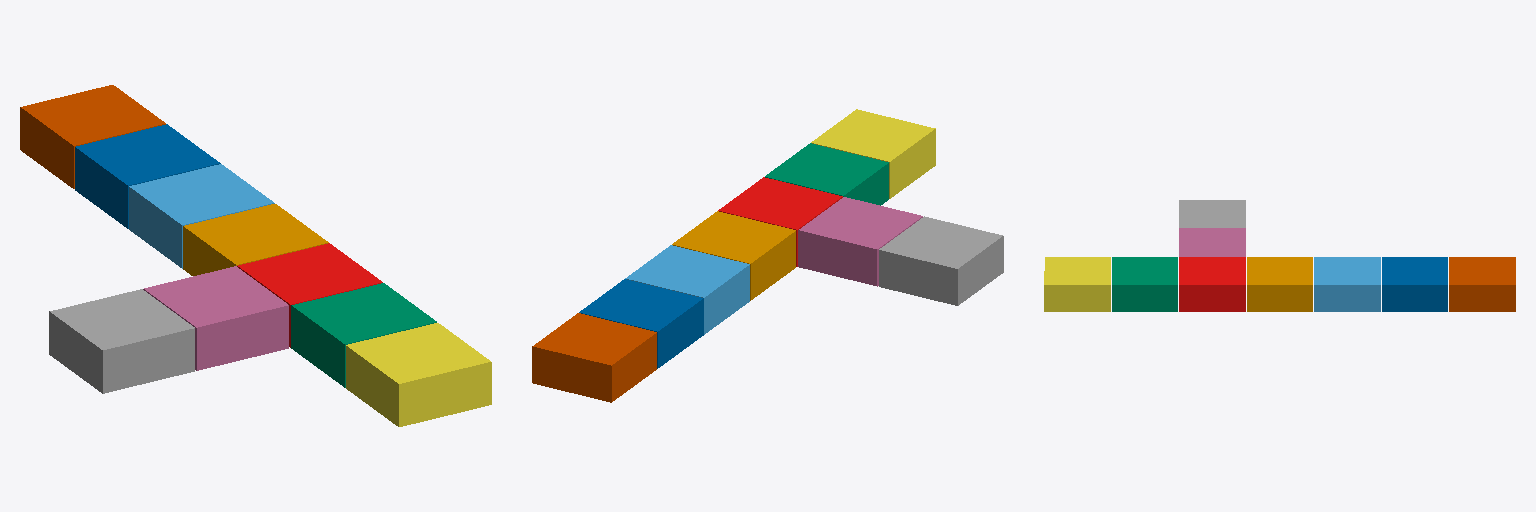
robot.urdf — rob:
<?xml version='1.0' encoding='UTF-8'?>
<robot name="rob">
  <link name="set1_arm1">
    <inertial>
      <origin xyz="0.0 0.34 0.0" rpy="0.0 0.0 0.0"/>
      <mass value="1.0"/>
      <inertia ixx="0.0" ixy="0.0" ixz="0.0" iyy="0.0" iyz="0.0" izz="0.0"/>
    </inertial>
    <visual>
      <geometry>
        <box size="0.67 0.67 0.3 "/>
      </geometry>
      <origin xyz="0.0 0.34 0.0" rpy="0.0 0.0 0.0"/>
    </visual>
    <collision>
      <geometry>
        <box size="0.67 0.67 0.3 "/>
      </geometry>
      <origin xyz="0.0 0.34 0.0" rpy="0.0 0.0 0.0"/>
    </collision>
  </link>
  <link name="set1_arm2">
    <inertial>
      <origin xyz="0.0 0.34 0.0" rpy="0.0 0.0 0.0"/>
      <mass value="1.0"/>
      <inertia ixx="0.0" ixy="0.0" ixz="0.0" iyy="0.0" iyz="0.0" izz="0.0"/>
    </inertial>
    <visual>
      <geometry>
        <box size="0.67 0.67 0.3 "/>
      </geometry>
      <origin xyz="0.0 0.34 0.0" rpy="0.0 0.0 0.0"/>
    </visual>
    <collision>
      <geometry>
        <box size="0.67 0.67 0.3 "/>
      </geometry>
      <origin xyz="0.0 0.34 0.0" rpy="0.0 0.0 0.0"/>
    </collision>
  </link>
  <link name="set2_arm1">
    <inertial>
      <origin xyz="0.0 0.34 0.0" rpy="0.0 0.0 0.0"/>
      <mass value="1.0"/>
      <inertia ixx="0.0" ixy="0.0" ixz="0.0" iyy="0.0" iyz="0.0" izz="0.0"/>
    </inertial>
    <visual>
      <geometry>
        <box size="0.67 0.67 0.3 "/>
      </geometry>
      <origin xyz="0.0 0.34 0.0" rpy="0.0 0.0 0.0"/>
    </visual>
    <collision>
      <geometry>
        <box size="0.67 0.67 0.3 "/>
      </geometry>
      <origin xyz="0.0 0.34 0.0" rpy="0.0 0.0 0.0"/>
    </collision>
  </link>
  <link name="set2_arm2">
    <inertial>
      <origin xyz="0.0 0.34 0.0" rpy="0.0 0.0 0.0"/>
      <mass value="1.0"/>
      <inertia ixx="0.0" ixy="0.0" ixz="0.0" iyy="0.0" iyz="0.0" izz="0.0"/>
    </inertial>
    <visual>
      <geometry>
        <box size="0.67 0.67 0.3 "/>
      </geometry>
      <origin xyz="0.0 0.34 0.0" rpy="0.0 0.0 0.0"/>
    </visual>
    <collision>
      <geometry>
        <box size="0.67 0.67 0.3 "/>
      </geometry>
      <origin xyz="0.0 0.34 0.0" rpy="0.0 0.0 0.0"/>
    </collision>
  </link>
  <link name="set3_arm1">
    <inertial>
      <origin xyz="0.0 0.34 0.0" rpy="0.0 0.0 0.0"/>
      <mass value="1.0"/>
      <inertia ixx="0.0" ixy="0.0" ixz="0.0" iyy="0.0" iyz="0.0" izz="0.0"/>
    </inertial>
    <visual>
      <geometry>
        <box size="0.67 0.67 0.3 "/>
      </geometry>
      <origin xyz="0.0 0.34 0.0" rpy="0.0 0.0 0.0"/>
    </visual>
    <collision>
      <geometry>
        <box size="0.67 0.67 0.3 "/>
      </geometry>
      <origin xyz="0.0 0.34 0.0" rpy="0.0 0.0 0.0"/>
    </collision>
  </link>
  <link name="set3_arm2">
    <inertial>
      <origin xyz="0.0 0.34 0.0" rpy="0.0 0.0 0.0"/>
      <mass value="1.0"/>
      <inertia ixx="0.0" ixy="0.0" ixz="0.0" iyy="0.0" iyz="0.0" izz="0.0"/>
    </inertial>
    <visual>
      <geometry>
        <box size="0.67 0.67 0.3 "/>
      </geometry>
      <origin xyz="0.0 0.34 0.0" rpy="0.0 0.0 0.0"/>
    </visual>
    <collision>
      <geometry>
        <box size="0.67 0.67 0.3 "/>
      </geometry>
      <origin xyz="0.0 0.34 0.0" rpy="0.0 0.0 0.0"/>
    </collision>
  </link>
  <link name="set4_arm1">
    <inertial>
      <origin xyz="0.0 0.34 0.0" rpy="0.0 0.0 0.0"/>
      <mass value="1.0"/>
      <inertia ixx="0.0" ixy="0.0" ixz="0.0" iyy="0.0" iyz="0.0" izz="0.0"/>
    </inertial>
    <visual>
      <geometry>
        <box size="0.67 0.67 0.3 "/>
      </geometry>
      <origin xyz="0.0 0.34 0.0" rpy="0.0 0.0 0.0"/>
    </visual>
    <collision>
      <geometry>
        <box size="0.67 0.67 0.3 "/>
      </geometry>
      <origin xyz="0.0 0.34 0.0" rpy="0.0 0.0 0.0"/>
    </collision>
  </link>
  <link name="set4_arm2">
    <inertial>
      <origin xyz="0.0 0.34 0.0" rpy="0.0 0.0 0.0"/>
      <mass value="1.0"/>
      <inertia ixx="0.0" ixy="0.0" ixz="0.0" iyy="0.0" iyz="0.0" izz="0.0"/>
    </inertial>
    <visual>
      <geometry>
        <box size="0.67 0.67 0.3 "/>
      </geometry>
      <origin xyz="0.0 0.34 0.0" rpy="0.0 0.0 0.0"/>
    </visual>
    <collision>
      <geometry>
        <box size="0.67 0.67 0.3 "/>
      </geometry>
      <origin xyz="0.0 0.34 0.0" rpy="0.0 0.0 0.0"/>
    </collision>
  </link>
  <link name="base_link">
    <inertial>
      <origin xyz="0.0 0.0 0.0" rpy="0.0 -0.0 0.0"/>
      <mass value="1.0"/>
      <inertia ixx="1.0" ixy="0.0" ixz="0.0" iyy="1.0" iyz="0.0" izz="1.0"/>
    </inertial>
    <visual>
      <geometry>
        <box size="0.67 0.67 0.3 "/>
      </geometry>
      <material name="red"/>
      <origin xyz="0.0 0.0 0.0" rpy="0.0 -0.0 0.0"/>
    </visual>
    <collision>
      <geometry>
        <box size="0.67 0.67 0.3 "/>
      </geometry>
      <origin xyz="0.0 0.0 0.0" rpy="0.0 0.0 0.0"/>
    </collision>
  </link>
  <joint name="set1_jointBase" type="fixed">
    <limit effort="1.57" velocity="1.57" lower="-1.57" upper="1.57"/>
    <parent link="base_link"/>
    <child link="set1_arm1"/>
    <axis xyz="1. 0. 0."/>
    <origin xyz="0.0 0.34 0.0" rpy="0.0 0.0 0.0"/>
  </joint>
  <joint name="set1_joint1" type="revolute">
    <limit effort="1.57" velocity="1.57" lower="-1.57" upper="1.57"/>
    <parent link="set1_arm1"/>
    <child link="set1_arm2"/>
    <axis xyz="1. 0. 0."/>
    <origin xyz="0.0 0.68 0.0" rpy="0.0 0.0 0.0"/>
  </joint>
  <joint name="set2_jointBase" type="fixed">
    <limit effort="1.57" velocity="1.57" lower="-1.57" upper="1.57"/>
    <parent link="base_link"/>
    <child link="set2_arm1"/>
    <axis xyz="1. 0. 0."/>
    <origin xyz="0.0 -0.34 0.0" rpy="0.0 0.0 3.141"/>
  </joint>
  <joint name="set2_joint1" type="revolute">
    <limit effort="1.57" velocity="1.57" lower="-1.57" upper="1.57"/>
    <parent link="set2_arm1"/>
    <child link="set2_arm2"/>
    <axis xyz="1. 0. 0."/>
    <origin xyz="0.0 0.68 0.0" rpy="0.0 0.0 0.0"/>
  </joint>
  <joint name="set3_jointBase" type="fixed">
    <limit effort="1.57" velocity="1.57" lower="-1.57" upper="1.57"/>
    <parent link="set1_arm2"/>
    <child link="set3_arm1"/>
    <axis xyz="1. 0. 0."/>
    <origin xyz="0.0 0.68 0.0" rpy="0.0 0.0 0.0"/>
  </joint>
  <joint name="set3_joint1" type="revolute">
    <limit effort="1.57" velocity="1.57" lower="-1.57" upper="1.57"/>
    <parent link="set3_arm1"/>
    <child link="set3_arm2"/>
    <axis xyz="1. 0. 0."/>
    <origin xyz="0.0 0.68 0.0" rpy="0.0 0.0 0.0"/>
  </joint>
  <joint name="set4_jointBase" type="fixed">
    <limit effort="1.57" velocity="1.57" lower="-1.57" upper="1.57"/>
    <parent link="base_link"/>
    <child link="set4_arm1"/>
    <axis xyz="1. 0. 0."/>
    <origin xyz="-0.34 0.0 0.0" rpy="0.0 0.0 1.57"/>
  </joint>
  <joint name="set4_joint1" type="revolute">
    <limit effort="1.57" velocity="1.57" lower="-1.57" upper="1.57"/>
    <parent link="set4_arm1"/>
    <child link="set4_arm2"/>
    <axis xyz="1. 0. 0."/>
    <origin xyz="0.0 0.68 0.0" rpy="0.0 0.0 0.0"/>
  </joint>
  <material name="red">
    <color rgba="0.969 0.129 0.122 1.   "/>
  </material>
</robot>

--- Render facts (derived) ---
The picture shows the robot from 3 angles, left to right: view 1: azimuth 30°, elevation 25°; view 2: azimuth 150°, elevation 25°; view 3: azimuth 270°, elevation 25°; orthographic projection.
Robot: rob — 9 links, 8 joints (4 revolute, 4 fixed); root link base_link; default pose: all joints at 0.
Visible links, largest first — view 1: set4_arm2, set2_arm2, set4_arm1, set2_arm1, set3_arm2, set1_arm2, set3_arm1, set1_arm1, base_link; view 2: set3_arm2, set4_arm2, set4_arm1, set2_arm2, set3_arm1, set1_arm2, set1_arm1, set2_arm1, base_link; view 3: set1_arm2, set3_arm2, base_link, set2_arm2, set1_arm1, set2_arm1, set3_arm1, set4_arm1, set4_arm2.
Link boxes in pixels (box(x1,y1,x2,y2)): set4_arm2: box(49, 289, 194, 393); set2_arm2: box(346, 323, 491, 426); set4_arm1: box(143, 266, 288, 370); set2_arm1: box(291, 283, 436, 387); set3_arm2: box(20, 85, 165, 188); set1_arm2: box(129, 164, 274, 268); set3_arm1: box(75, 124, 220, 228); set1_arm1: box(183, 204, 328, 275); base_link: box(237, 243, 382, 347); set3_arm2: box(532, 313, 656, 402); set4_arm2: box(879, 216, 1003, 305); set4_arm1: box(798, 197, 922, 286); set2_arm2: box(811, 109, 935, 198); set3_arm1: box(579, 279, 703, 368); set1_arm2: box(625, 245, 749, 334); set1_arm1: box(672, 211, 795, 300); set2_arm1: box(765, 143, 888, 205); base_link: box(718, 177, 842, 266); set1_arm2: box(1314, 257, 1380, 311); set3_arm2: box(1449, 257, 1515, 311); base_link: box(1179, 257, 1245, 311); set2_arm2: box(1044, 257, 1110, 311); set1_arm1: box(1247, 257, 1312, 311); set2_arm1: box(1112, 257, 1177, 311); set3_arm1: box(1382, 257, 1447, 311); set4_arm1: box(1179, 228, 1245, 256); set4_arm2: box(1179, 200, 1245, 227).
Bounding box of the posed robot: 2.03 × 4.75 × 0.3 m (x, y, z).
Geometry: primitives only (box / cylinder / sphere), no mesh files.